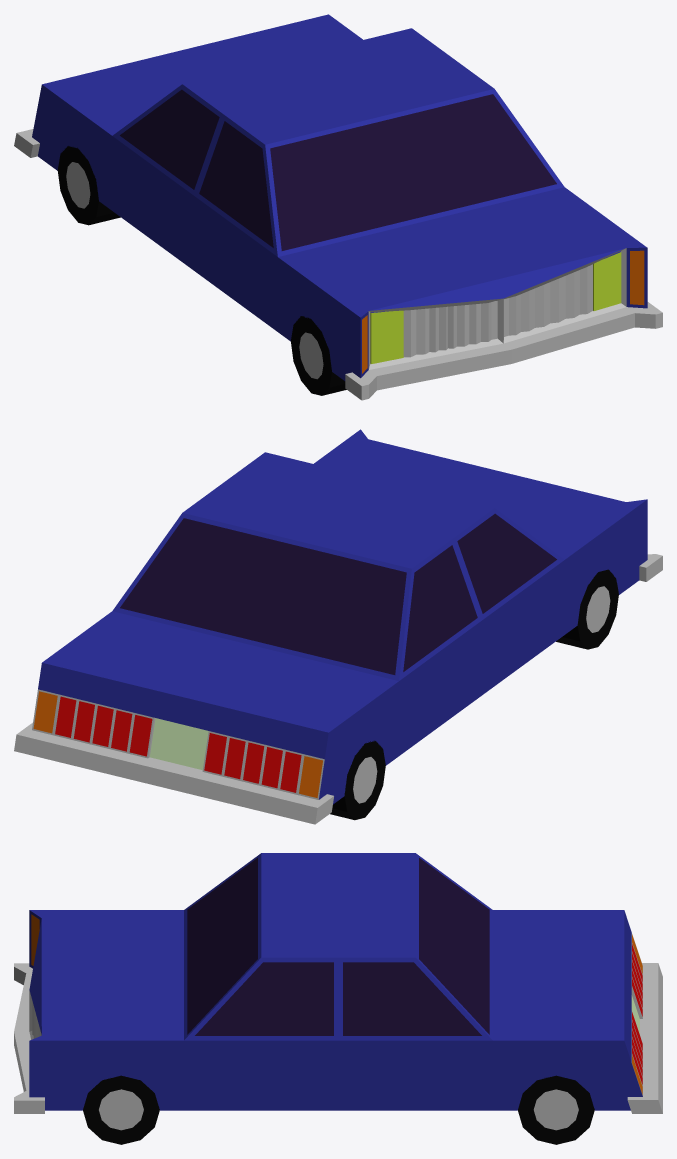
File: muscle-car.glb
The picture shows the model from 3 angles, top to bottom: view 1: azimuth 30°, elevation 25°; view 2: azimuth 150°, elevation 25°; view 3: azimuth 270°, elevation 25°; orthographic projection. The views are drawn at different scales.
Visible parts, largest first — view 1: body, rear wheels, front wheels; view 2: body, front wheels, rear wheels; view 3: body, front wheels, rear wheels.
Part boxes in pixels (x1,y1,x2,y2): body: (14, 14, 662, 400); rear wheels: (57, 146, 120, 225); front wheels: (290, 316, 346, 395); body: (14, 429, 662, 824); front wheels: (556, 569, 618, 649); rear wheels: (330, 740, 385, 820); body: (14, 853, 662, 1113); front wheels: (83, 1075, 159, 1144); rear wheels: (518, 1075, 594, 1144).
Bounding box in the file's own units: 2.1 × 1.24 × 4.2.
